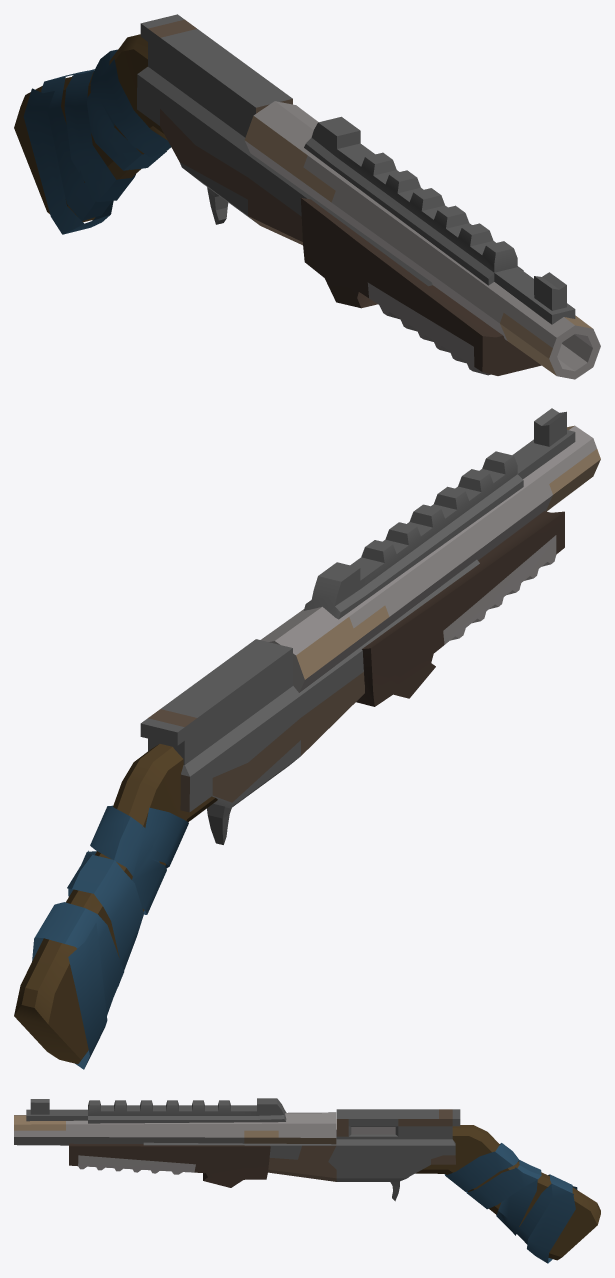
Rendered from quaternius-zombie-apocalypse-kit-march-shotgun.glb.
3 renders of one model, top to bottom at view 1: azimuth 30°, elevation 25°; view 2: azimuth 150°, elevation 25°; view 3: azimuth 270°, elevation 25°, orthographic. The views are drawn at different scales.
Parts seen in each view (by area): view 1: Shotgun; view 2: Shotgun; view 3: Shotgun.
Part boxes in pixels (bbox=[...]): Shotgun: bbox=[14, 14, 600, 379]; Shotgun: bbox=[14, 408, 600, 1069]; Shotgun: bbox=[14, 1098, 600, 1263].
Bounding box in the file's own units: 0.0951 × 0.3382 × 1.11.
1 material, 1 textured.
